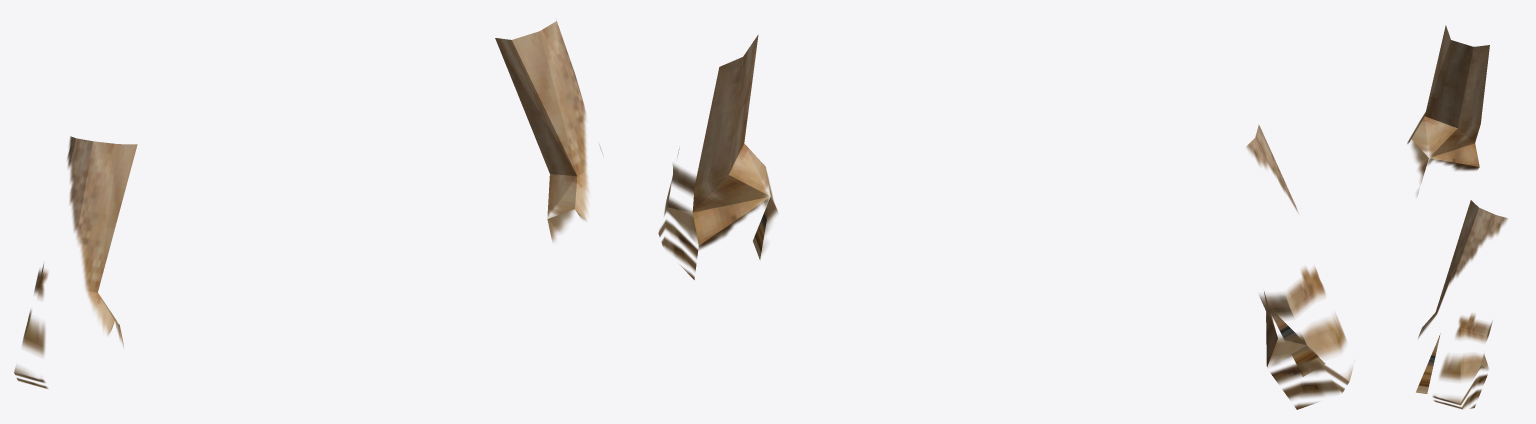
The model's file is Armor_Xardas.glb.
3 renders of one model, left to right at view 1: azimuth 30°, elevation 25°; view 2: azimuth 150°, elevation 25°; view 3: azimuth 270°, elevation 25°, orthographic. The views are drawn at different scales.
Visible parts, largest first — view 1: Armor_Xardaszm_Body; view 2: Armor_Xardaszm_Body; view 3: Armor_Xardaszm_Body.
Part boxes in pixels (<box>): Armor_Xardaszm_Body: <box>14,21,603,388</box>; Armor_Xardaszm_Body: <box>658,34,1352,409</box>; Armor_Xardaszm_Body: <box>1407,25,1507,409</box>.
Size of the model in its own units: 0.8159 by 0.3191 by 0.1869.
1 material, 1 textured.
